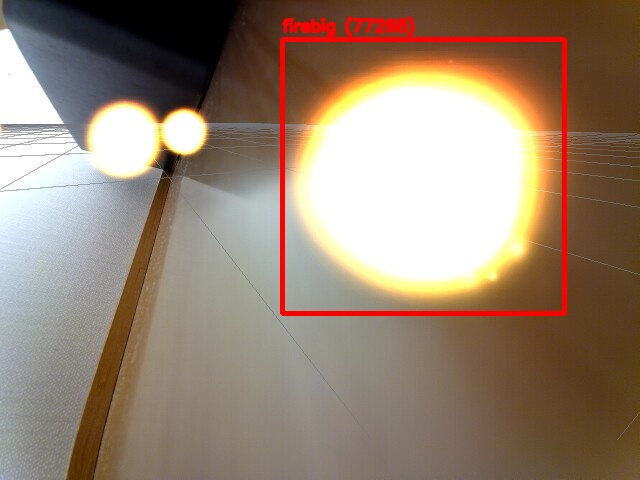firebig: (282, 39, 564, 313)
